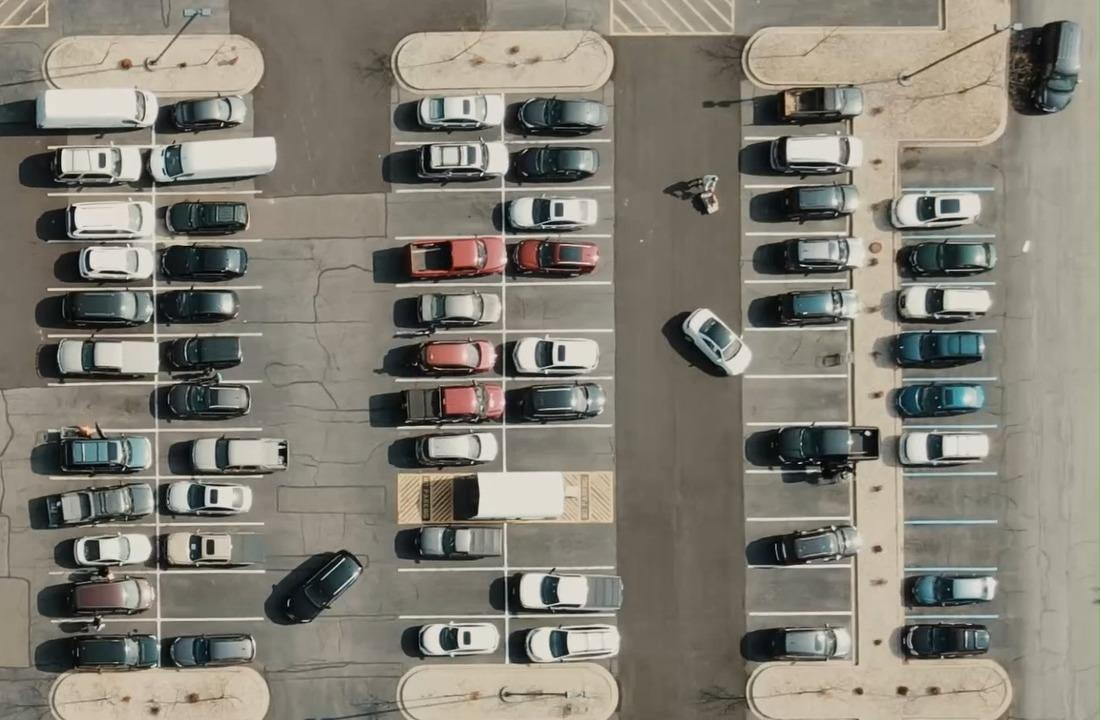car: (265, 548, 364, 625), (1007, 19, 1081, 116), (146, 135, 277, 184), (745, 422, 879, 468), (737, 133, 863, 177), (34, 86, 158, 130), (43, 481, 154, 528), (745, 522, 862, 566), (510, 569, 623, 613), (392, 289, 502, 334), (399, 381, 505, 425), (404, 235, 507, 280), (680, 306, 748, 374), (749, 183, 860, 223), (509, 623, 620, 663), (55, 336, 157, 379), (739, 623, 851, 662), (48, 142, 144, 186), (509, 381, 606, 423), (491, 195, 598, 233), (188, 435, 288, 475), (895, 239, 997, 278), (507, 237, 599, 279), (514, 95, 608, 136), (895, 284, 993, 323), (890, 329, 986, 368), (509, 335, 600, 376), (64, 574, 155, 615), (506, 144, 599, 184), (60, 288, 153, 328), (889, 189, 981, 229), (406, 337, 499, 376), (402, 621, 499, 658), (64, 199, 150, 240), (158, 243, 248, 282), (897, 429, 989, 467), (777, 84, 864, 124), (776, 235, 864, 274), (900, 621, 990, 659), (163, 382, 251, 420), (162, 479, 252, 516), (775, 287, 860, 326), (893, 382, 985, 418), (416, 138, 490, 182), (413, 524, 503, 560), (162, 199, 249, 236), (413, 431, 498, 468), (905, 573, 997, 607), (156, 287, 240, 324), (161, 333, 242, 371), (170, 94, 247, 132), (416, 93, 492, 131), (77, 244, 153, 282)
